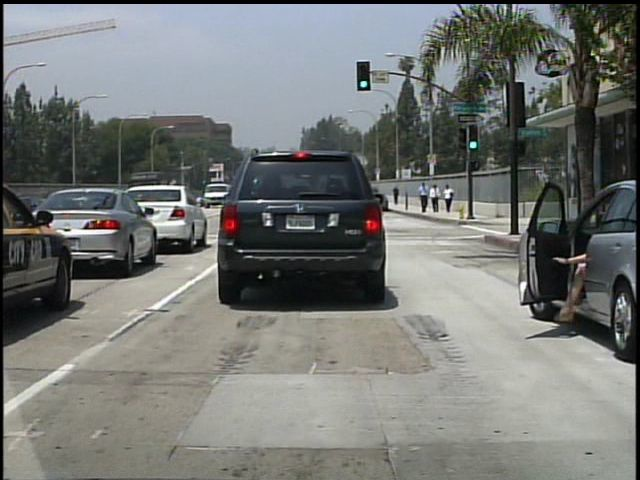person: (552, 190, 614, 331), (431, 182, 443, 213), (419, 180, 430, 213), (444, 183, 456, 213), (393, 185, 402, 206)
